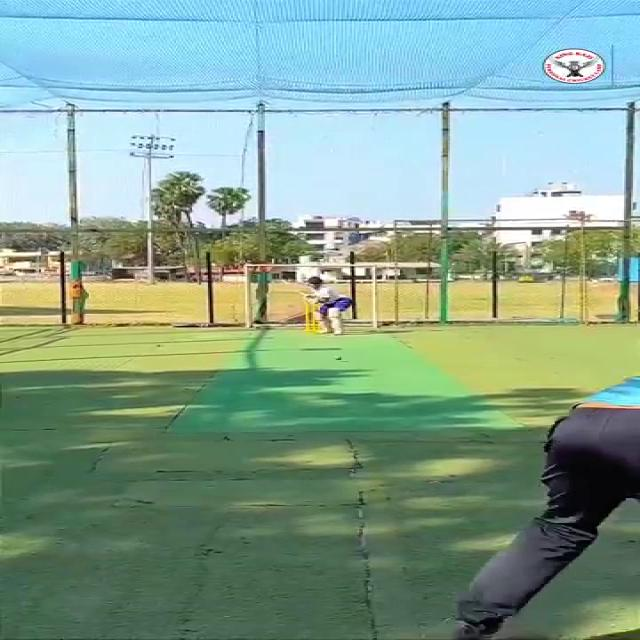batsman: (290, 275, 354, 338)
